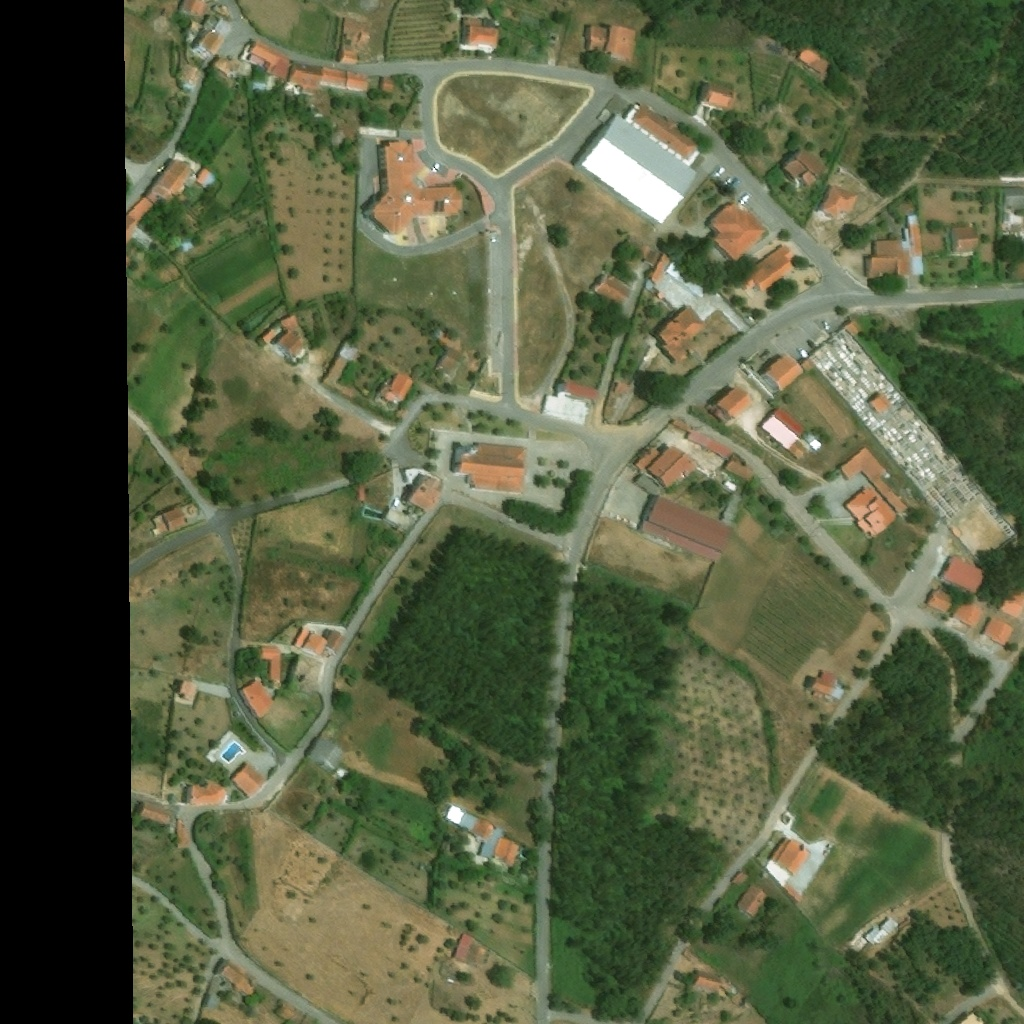0 no-damage: (575, 114, 698, 231), (366, 140, 464, 237), (639, 493, 736, 564), (624, 101, 703, 167), (841, 445, 910, 515), (453, 442, 527, 493), (710, 203, 767, 262), (146, 149, 201, 209), (657, 303, 707, 367), (735, 242, 796, 293), (845, 486, 898, 541), (760, 404, 810, 461), (240, 36, 292, 80), (940, 554, 990, 595), (647, 443, 693, 487), (865, 240, 914, 277), (770, 835, 813, 876), (481, 825, 523, 866), (764, 351, 804, 391), (241, 676, 277, 720), (784, 144, 829, 179), (819, 183, 859, 221), (716, 383, 755, 421), (231, 760, 270, 798), (902, 214, 925, 277), (288, 58, 326, 96), (407, 472, 442, 512), (198, 18, 233, 58), (220, 960, 259, 995), (736, 882, 772, 919), (541, 395, 588, 423), (153, 505, 191, 539), (606, 24, 638, 64), (596, 275, 631, 311), (456, 934, 493, 968), (381, 372, 415, 405), (460, 25, 499, 53), (953, 597, 986, 630), (700, 80, 736, 110), (796, 45, 831, 75), (276, 1000, 321, 1023), (188, 780, 227, 806), (950, 224, 984, 253), (1000, 584, 1023, 626), (984, 616, 1015, 647), (274, 330, 307, 359), (343, 17, 373, 48), (764, 859, 796, 888), (726, 453, 756, 483), (561, 379, 599, 402), (647, 253, 673, 285), (864, 923, 894, 950), (142, 801, 173, 827), (438, 348, 464, 378), (259, 647, 282, 680), (811, 672, 841, 697), (928, 588, 956, 614), (634, 444, 660, 472), (302, 629, 328, 657), (695, 969, 722, 995), (133, 196, 156, 226), (296, 656, 324, 680), (322, 65, 348, 90), (586, 25, 609, 52), (869, 392, 892, 416), (459, 810, 481, 835), (347, 70, 369, 94), (180, 678, 201, 703), (474, 818, 495, 842), (446, 803, 467, 827), (197, 165, 218, 189), (179, 63, 201, 85), (785, 883, 808, 904), (1002, 188, 1023, 211), (328, 628, 346, 654), (798, 168, 819, 190), (216, 56, 237, 77), (862, 942, 884, 962), (958, 1010, 991, 1023), (843, 318, 864, 338), (883, 916, 902, 937), (339, 48, 361, 66), (178, 816, 190, 846), (643, 249, 660, 268), (281, 315, 300, 332), (202, 13, 219, 31), (636, 242, 652, 259), (732, 870, 748, 886), (382, 76, 398, 92), (801, 358, 815, 373), (261, 329, 275, 343), (268, 321, 282, 335), (810, 438, 823, 451), (804, 432, 816, 445), (357, 484, 365, 502), (193, 165, 202, 181), (834, 687, 845, 700)
4 un-classified: (179, 0, 206, 17), (480, 0, 496, 8)
